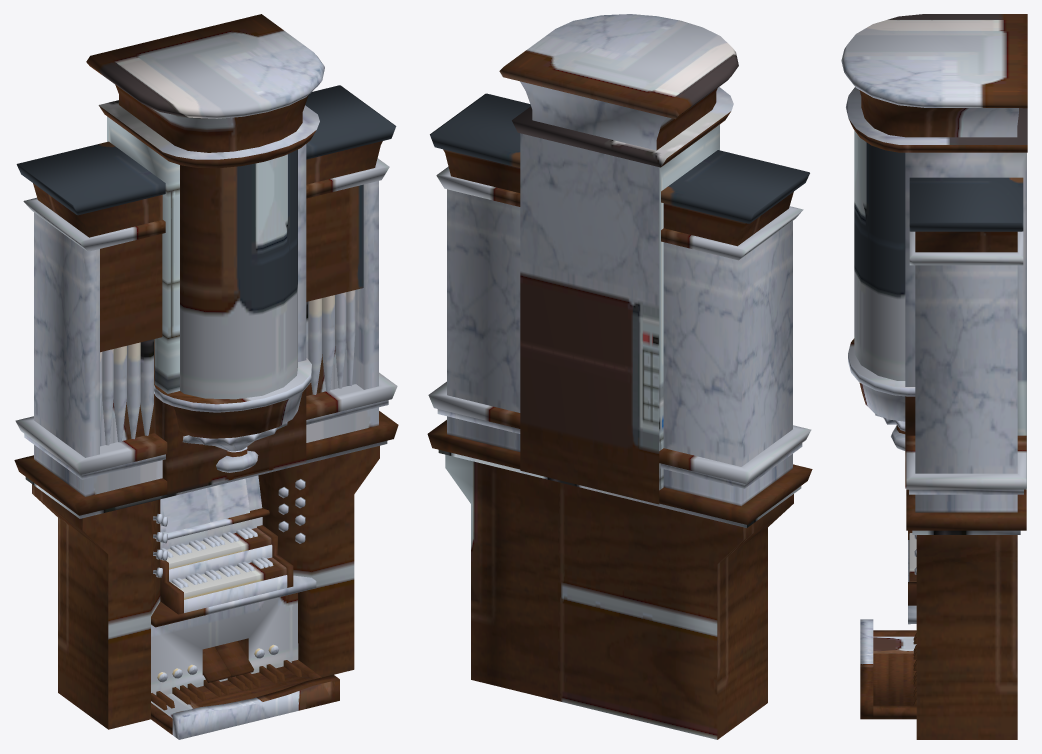
File: organo.fbx
3 views of the same model, side by side, from view 1: azimuth 30°, elevation 25°; view 2: azimuth 150°, elevation 25°; view 3: azimuth 270°, elevation 25° (orthographic).
Parts seen in each view (by area): view 1: organo; view 2: organo; view 3: organo.
Boxes of the visible parts, x1,y1,x2,y2 form: organo: (14, 14, 398, 739); organo: (427, 14, 812, 739); organo: (841, 14, 1027, 739).
Bounding box in the file's own units: 99.78 × 184 × 49.65.
